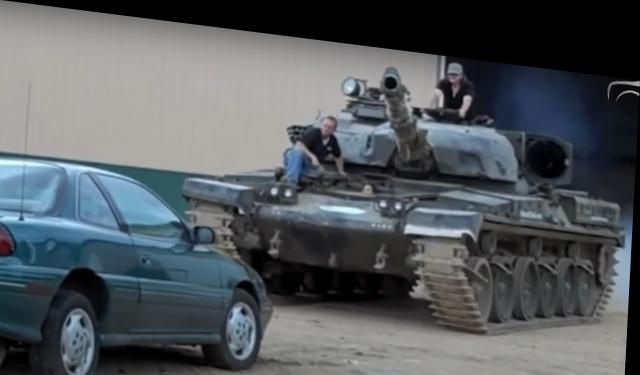other: (282, 104, 342, 186), (434, 50, 476, 96)
tank: (268, 101, 614, 305)
